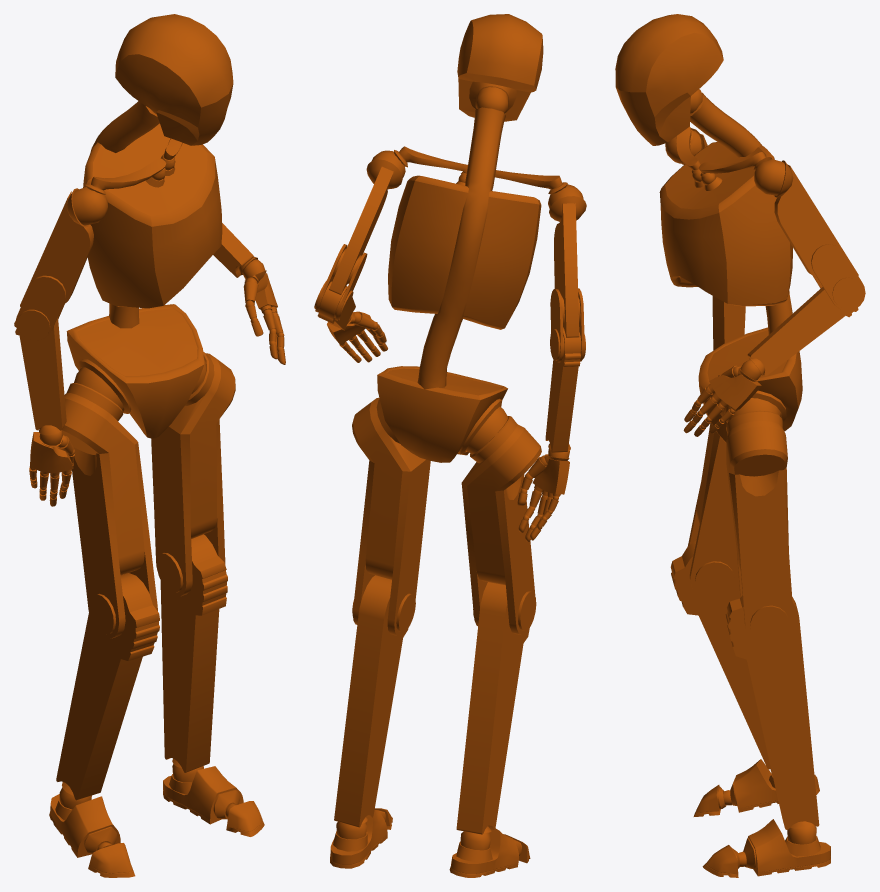
Rendered from RobotAnimacja_000011.obj.
3 views of the same model, side by side, from view 1: azimuth 30°, elevation 25°; view 2: azimuth 150°, elevation 25°; view 3: azimuth 270°, elevation 25° (orthographic). The views are drawn at different scales.
Visible parts, largest first — view 1: free3dmodel.001; view 2: free3dmodel.001; view 3: free3dmodel.001.
Boxes of the visible parts, x1=… form: free3dmodel.001: x1=14, y1=14, x2=285, y2=877; free3dmodel.001: x1=314, y1=14, x2=586, y2=877; free3dmodel.001: x1=615, y1=14, x2=865, y2=877.
Size of the model in its own units: 1.9 by 5.94 by 1.67.
